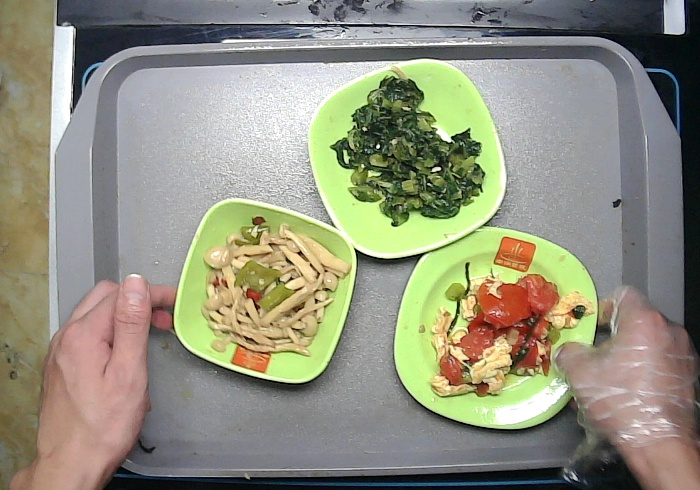SHKJ-Lv_Se_Cai_Die: (304, 56, 512, 259)
SHKJ-Lv_Se_Si_Fang_Cai_Die: (391, 221, 599, 429)
SHKJ-Lv_Se_Xiao_Fang_Die: (169, 197, 358, 387)
